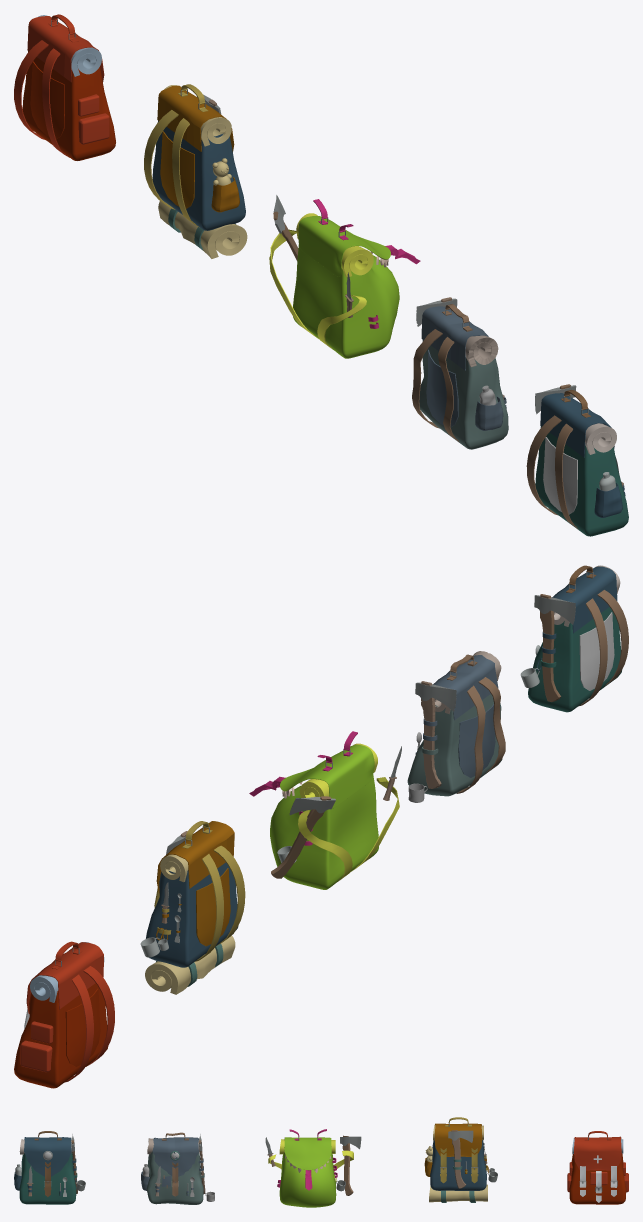
The picture shows the model from 3 angles, top to bottom: view 1: azimuth 30°, elevation 25°; view 2: azimuth 150°, elevation 25°; view 3: azimuth 270°, elevation 25°; orthographic projection. The views are drawn at different scales.
Visible parts, largest first — view 1: polySurface409, polySurface418, polySurface323, polySurface337, polySurface421; view 2: polySurface409, polySurface418, polySurface323, polySurface421, polySurface337; view 3: polySurface409, polySurface418, polySurface323, polySurface337, polySurface421.
Boxes of the visible parts, x1,y1,x2,y2 form: polySurface409: (269, 195, 420, 358); polySurface418: (144, 84, 247, 258); polySurface323: (526, 384, 628, 536); polySurface337: (412, 297, 508, 449); polySurface421: (14, 14, 115, 160); polySurface409: (249, 731, 401, 889); polySurface418: (140, 821, 245, 994); polySurface323: (520, 565, 628, 712); polySurface421: (14, 941, 114, 1088); polySurface337: (407, 651, 505, 802); polySurface409: (265, 1129, 361, 1207); polySurface418: (424, 1117, 497, 1202); polySurface323: (14, 1131, 85, 1204); polySurface337: (141, 1132, 214, 1204); polySurface421: (567, 1131, 628, 1204).
Bounding box in the file's own units: 1.15 × 1.38 × 9.45.
